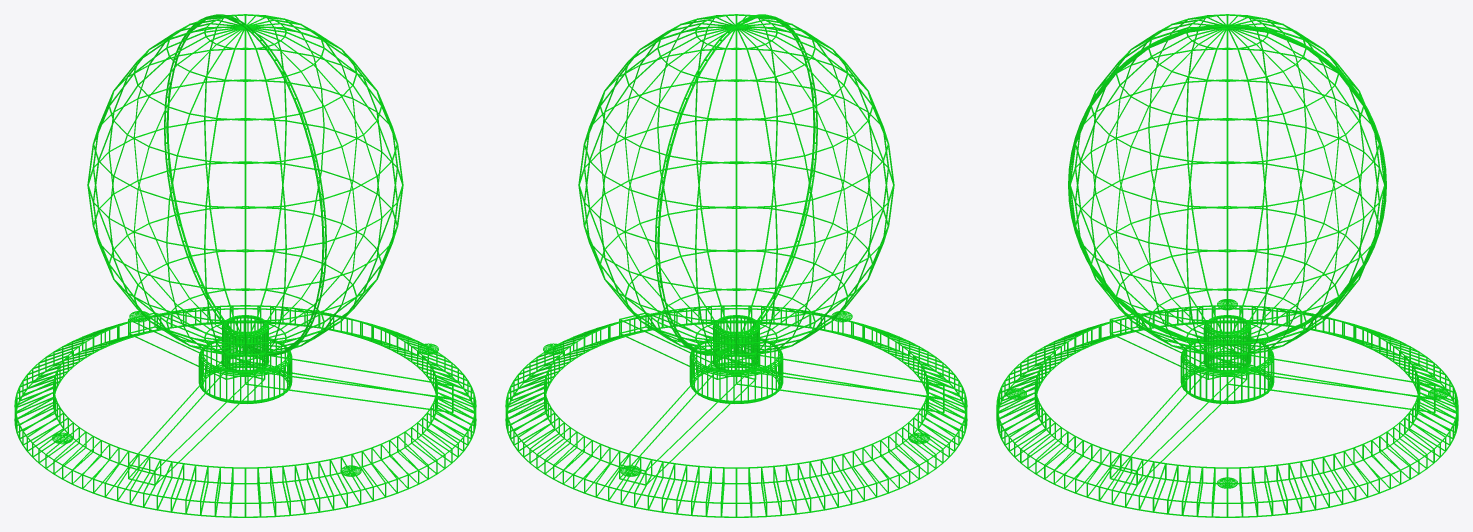
File: gravity-nullifier-wireframe.glb
3 views of the same model, side by side, from view 1: azimuth 30°, elevation 25°; view 2: azimuth 150°, elevation 25°; view 3: azimuth 270°, elevation 25° (orthographic).
Visible parts, largest first — view 1: central-gravitic-reactor technical wire, fixed-shaped-base technical wire, chassis technical wire, cardinal-orientation-sensors technical wire; view 2: central-gravitic-reactor technical wire, fixed-shaped-base technical wire, chassis technical wire, cardinal-orientation-sensors technical wire; view 3: central-gravitic-reactor technical wire, fixed-shaped-base technical wire, chassis technical wire, cardinal-orientation-sensors technical wire.
Boxes of the visible parts, bbox=[...] form: central-gravitic-reactor technical wire: bbox=[87, 14, 403, 355]; fixed-shaped-base technical wire: bbox=[14, 305, 476, 517]; chassis technical wire: bbox=[221, 315, 269, 370]; cardinal-orientation-sensors technical wire: bbox=[52, 311, 438, 476]; central-gravitic-reactor technical wire: bbox=[578, 14, 894, 355]; fixed-shaped-base technical wire: bbox=[505, 305, 967, 517]; chassis technical wire: bbox=[712, 315, 760, 370]; cardinal-orientation-sensors technical wire: bbox=[543, 311, 929, 476]; central-gravitic-reactor technical wire: bbox=[1068, 14, 1386, 355]; fixed-shaped-base technical wire: bbox=[996, 305, 1458, 517]; chassis technical wire: bbox=[1203, 315, 1251, 370]; cardinal-orientation-sensors technical wire: bbox=[1005, 299, 1449, 488].
Size of the model in its own units: 2.41 by 2.27 by 2.41.
